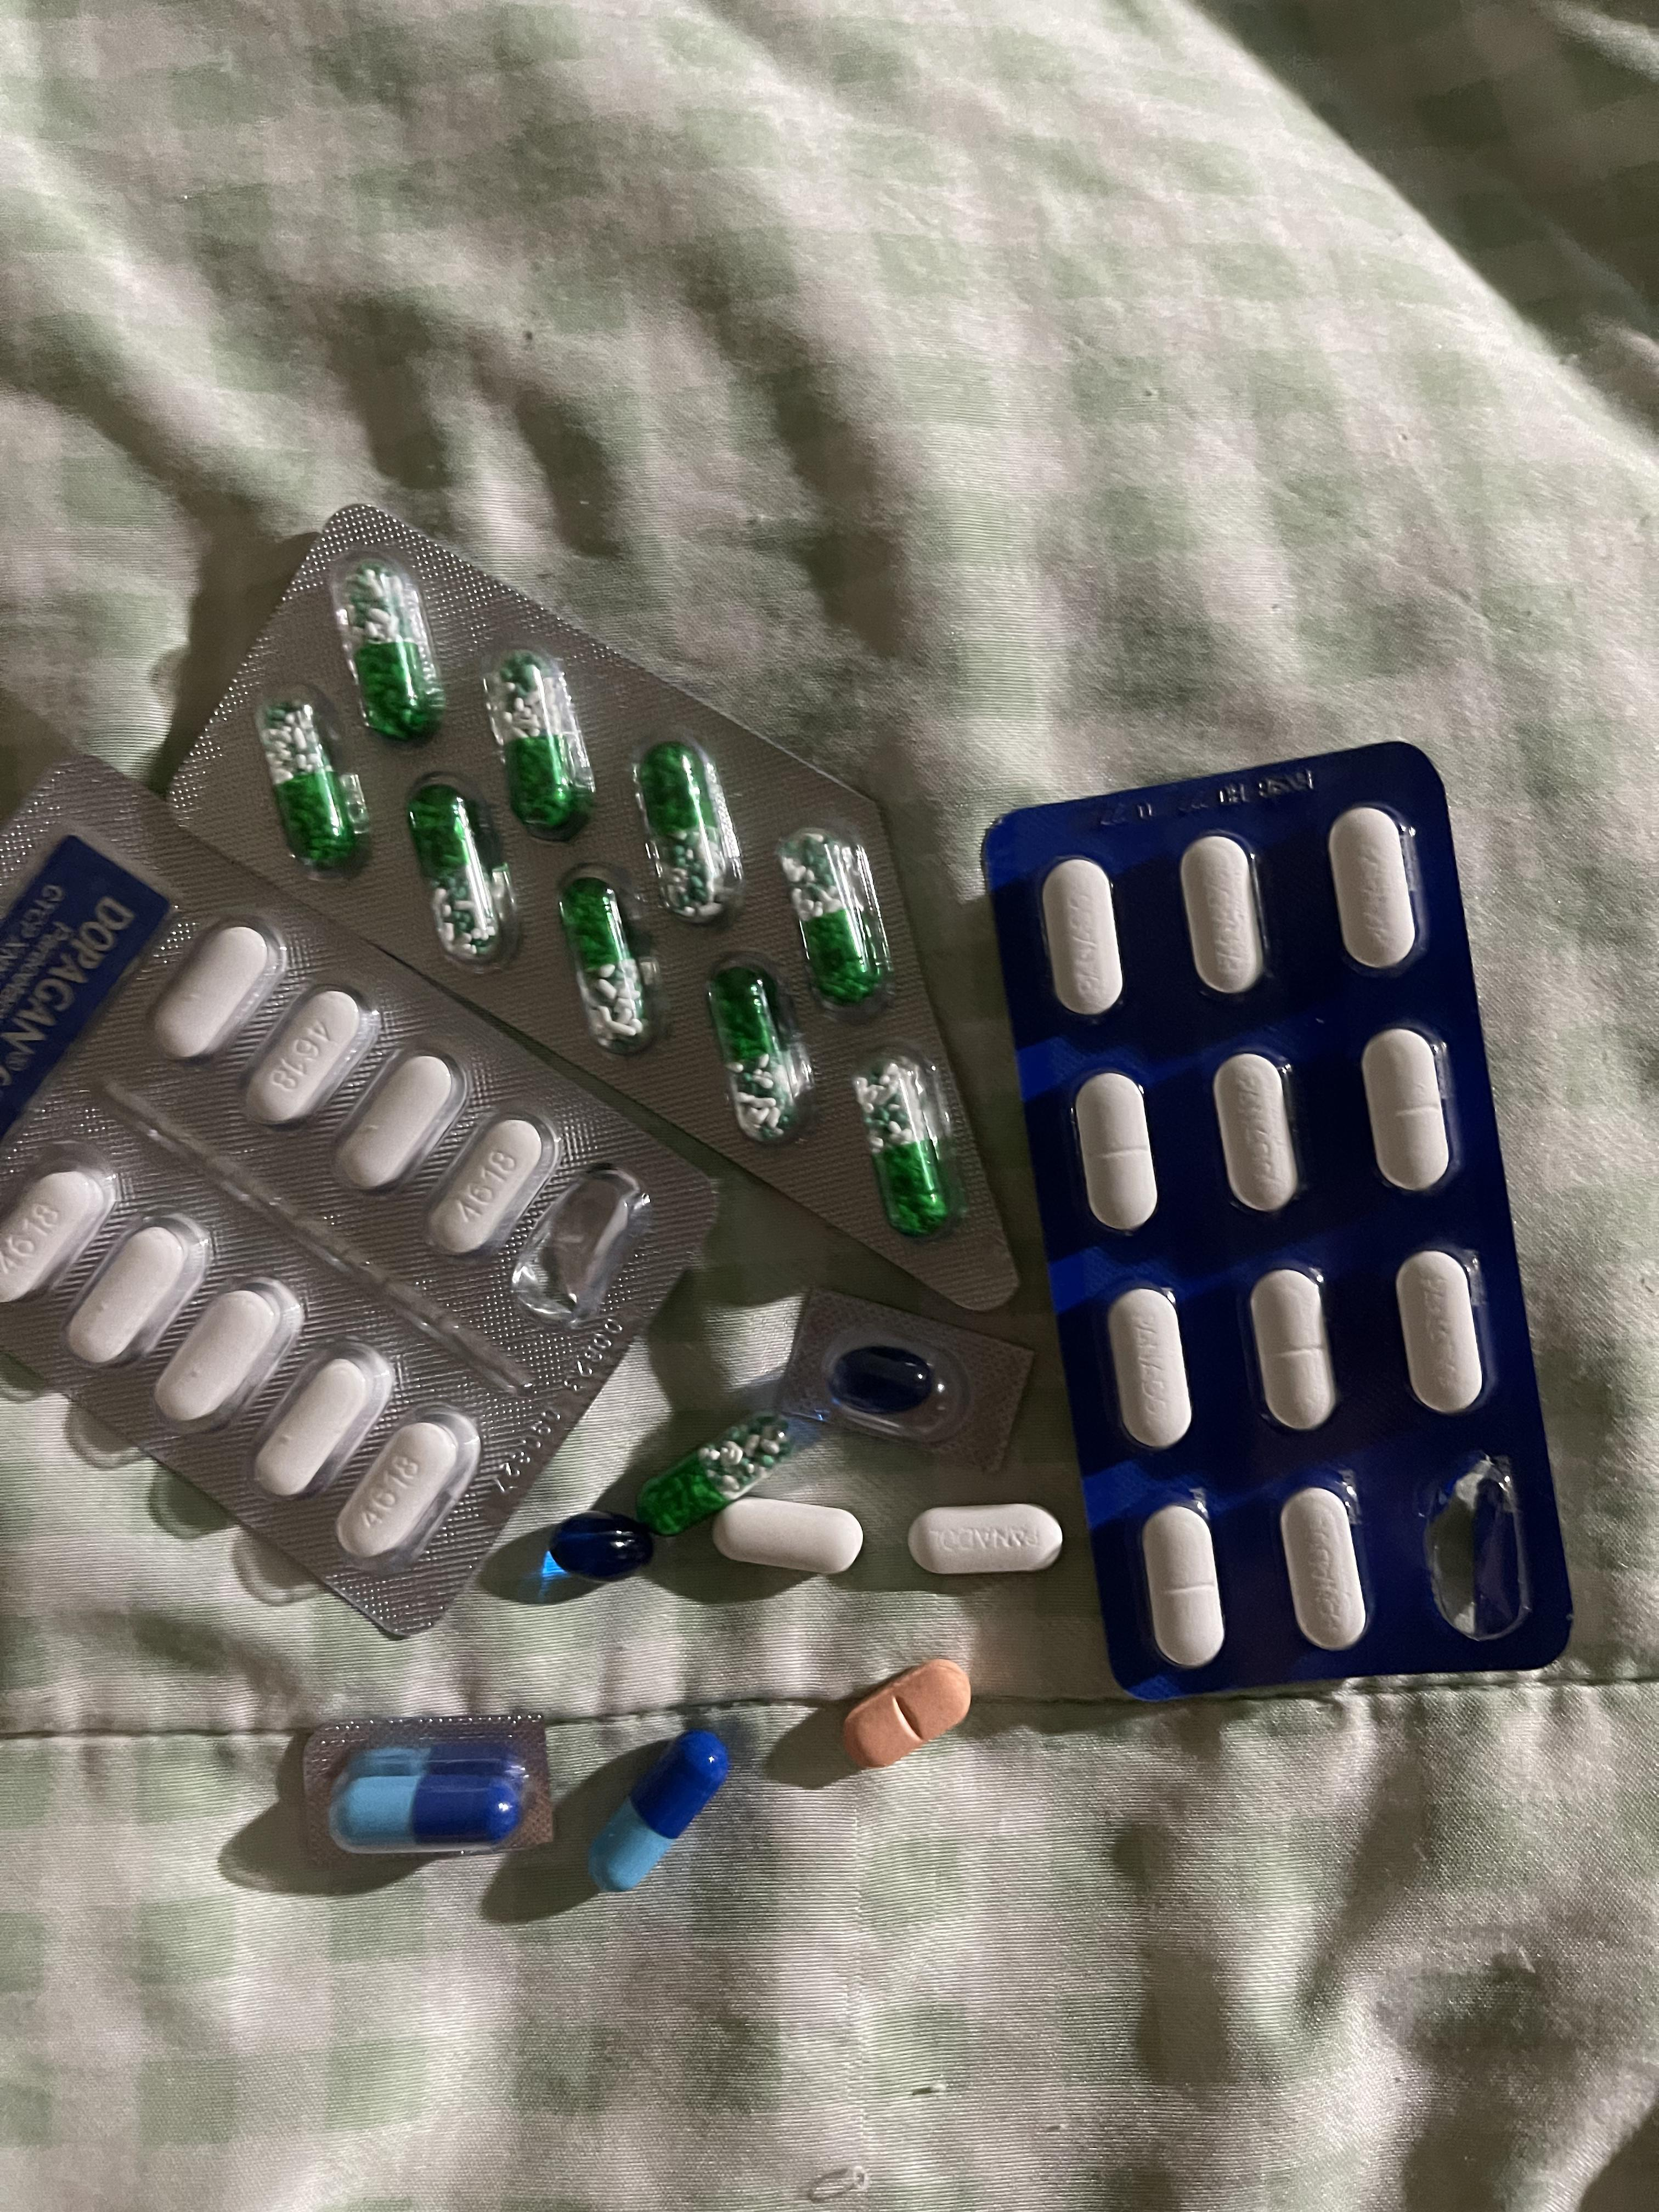Lincomyxin_500mg: (545, 1512, 655, 1581), (833, 1345, 936, 1413)
Loratadine_10mg: (843, 1658, 971, 1768)
Paracetamol_350mg: (1330, 806, 1425, 974), (1361, 1028, 1455, 1193), (1396, 1252, 1490, 1418), (1279, 1487, 1370, 1653), (1248, 1270, 1338, 1433), (1215, 1055, 1304, 1216), (1105, 1289, 1190, 1453), (1180, 836, 1267, 996), (1141, 1505, 1223, 1669), (1072, 1073, 1155, 1233), (1039, 859, 1119, 1015), (910, 1500, 1063, 1576)
Paracetamol_500mg: (155, 1270, 301, 1433), (335, 1404, 479, 1564), (253, 1334, 392, 1500), (66, 1209, 207, 1371), (423, 1108, 556, 1256), (240, 982, 369, 1127), (0, 1148, 119, 1303), (333, 1052, 460, 1195), (150, 923, 277, 1061), (711, 1496, 863, 1571)
Paracetamol_650mg: (406, 777, 519, 967), (552, 867, 666, 1052), (484, 651, 598, 836), (638, 1414, 802, 1536), (706, 963, 814, 1143), (781, 829, 889, 1008), (340, 563, 443, 742), (854, 1059, 953, 1235), (638, 744, 735, 920), (261, 698, 357, 869)
pill: (589, 1731, 728, 1895), (336, 1752, 528, 1853)
